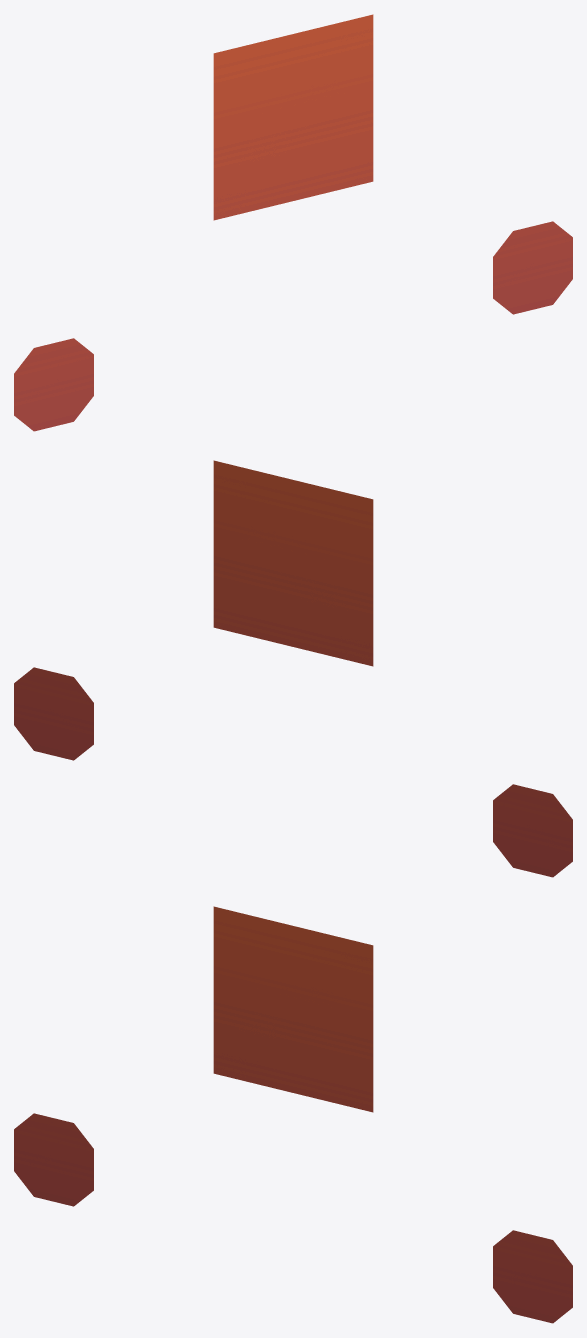
The model's file is coaster-hanging-cap-back.glb.
The picture shows the model from 3 angles, top to bottom: view 1: azimuth 30°, elevation 25°; view 2: azimuth 150°, elevation 25°; view 3: azimuth 330°, elevation 25°; orthographic projection.
Visible parts, largest first — view 1: coaster-hanging-cap-back; view 2: coaster-hanging-cap-back; view 3: coaster-hanging-cap-back.
Part boxes in pixels (box(x1,y1,x2,y2)): coaster-hanging-cap-back: box(14, 14, 572, 431); coaster-hanging-cap-back: box(14, 460, 572, 877); coaster-hanging-cap-back: box(14, 906, 572, 1323).
Bounding box in the file's own units: 0.7 × 0.4 × 1.44e-15.
Materials: 1 (1 with a texture image).
